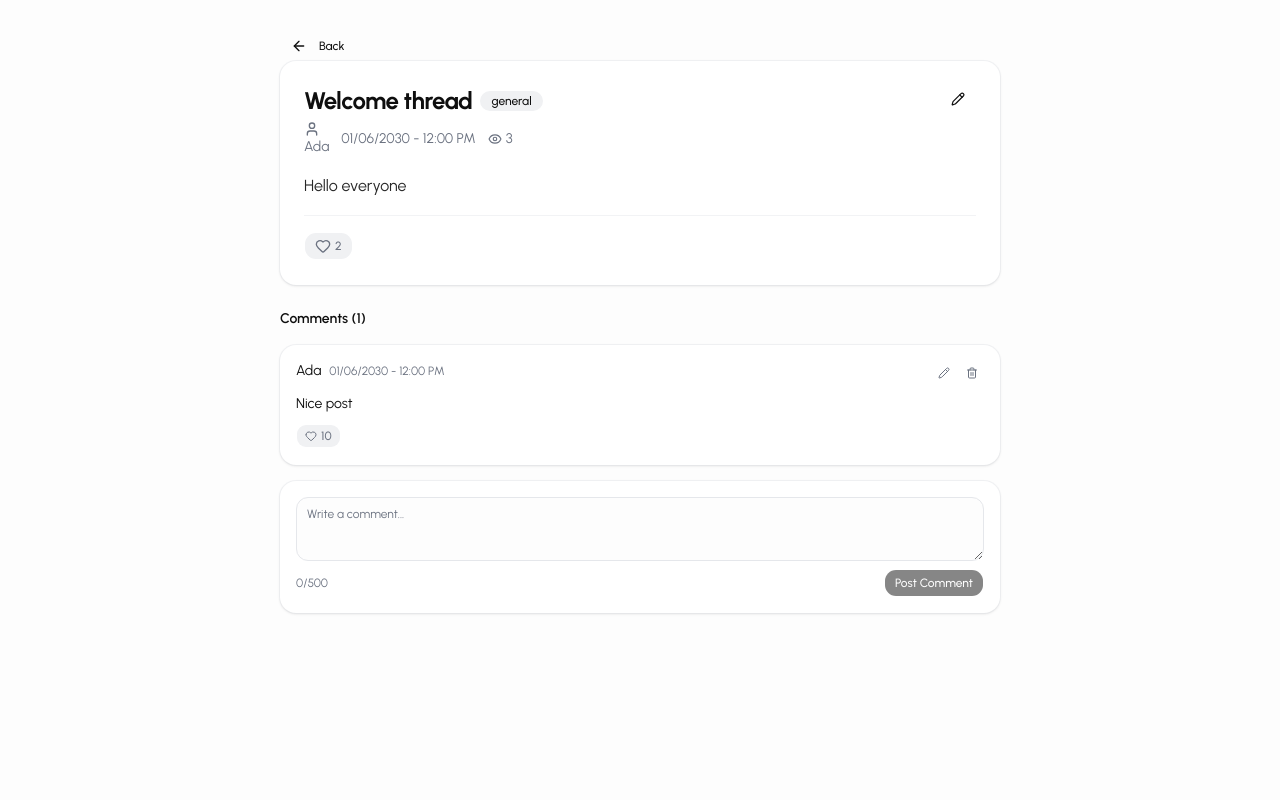
discussion detail route › edits an existing comment
Expected: the text "Nice post" is shown, [296,395,353,412]
Click the button named "Edit comment".
click(944, 373)  # box [932,361,956,385]
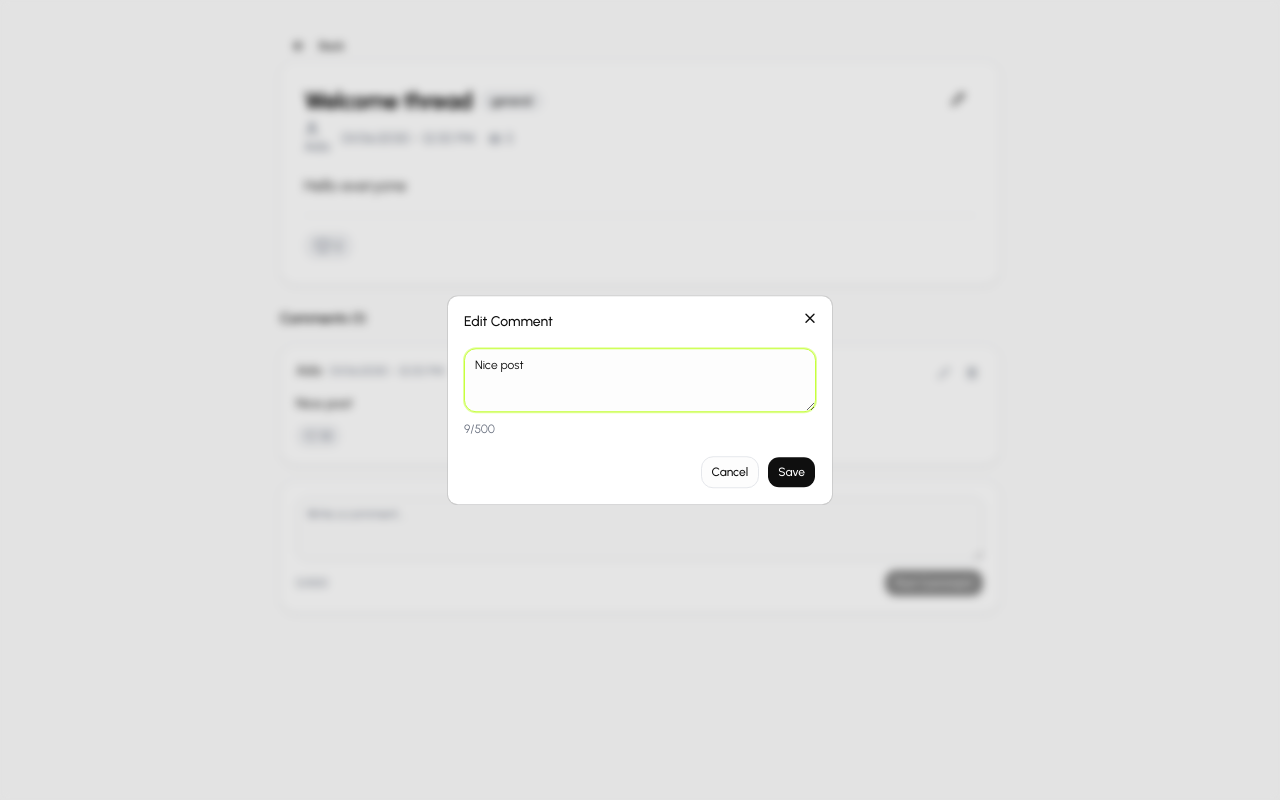
Replace the text in the text box with "Edited comment" at point(640, 380), box [464,348,816,412]
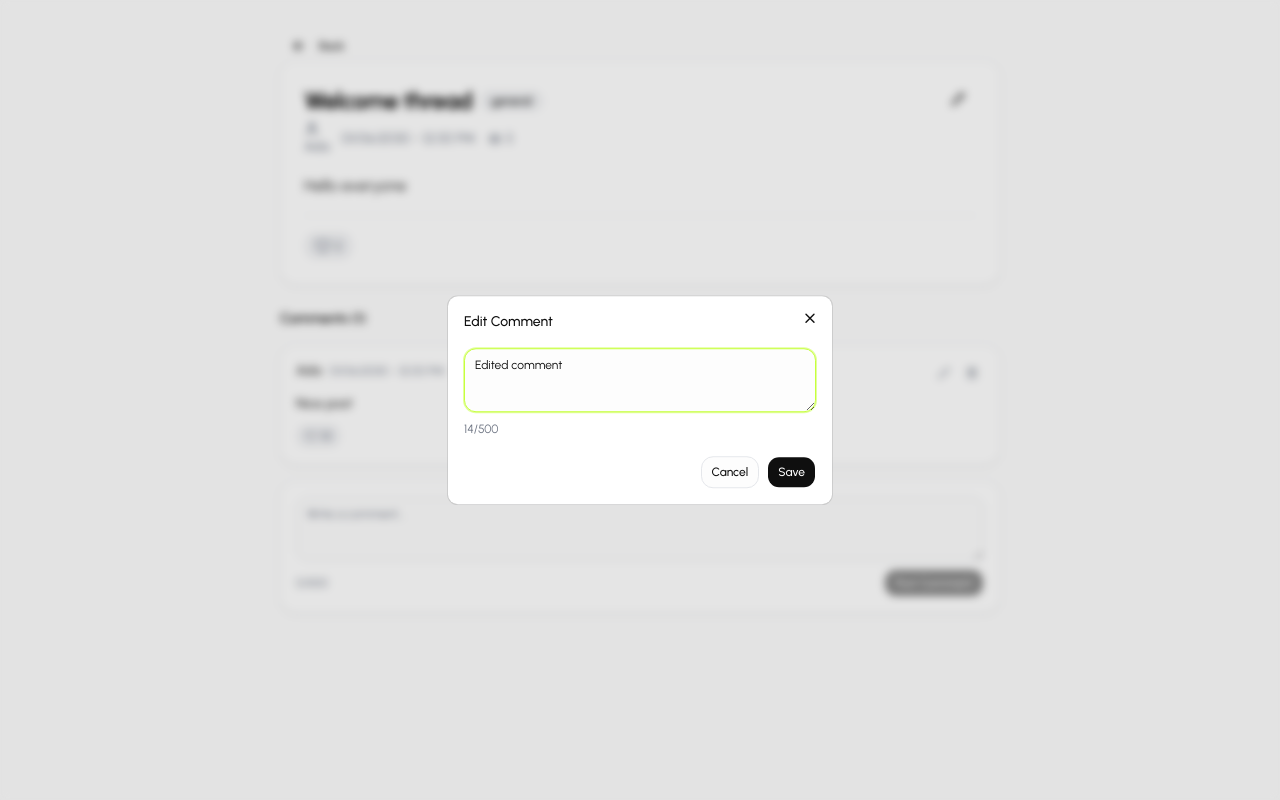
Click the button "Save".
click(792, 472)  # box [767,456,816,488]
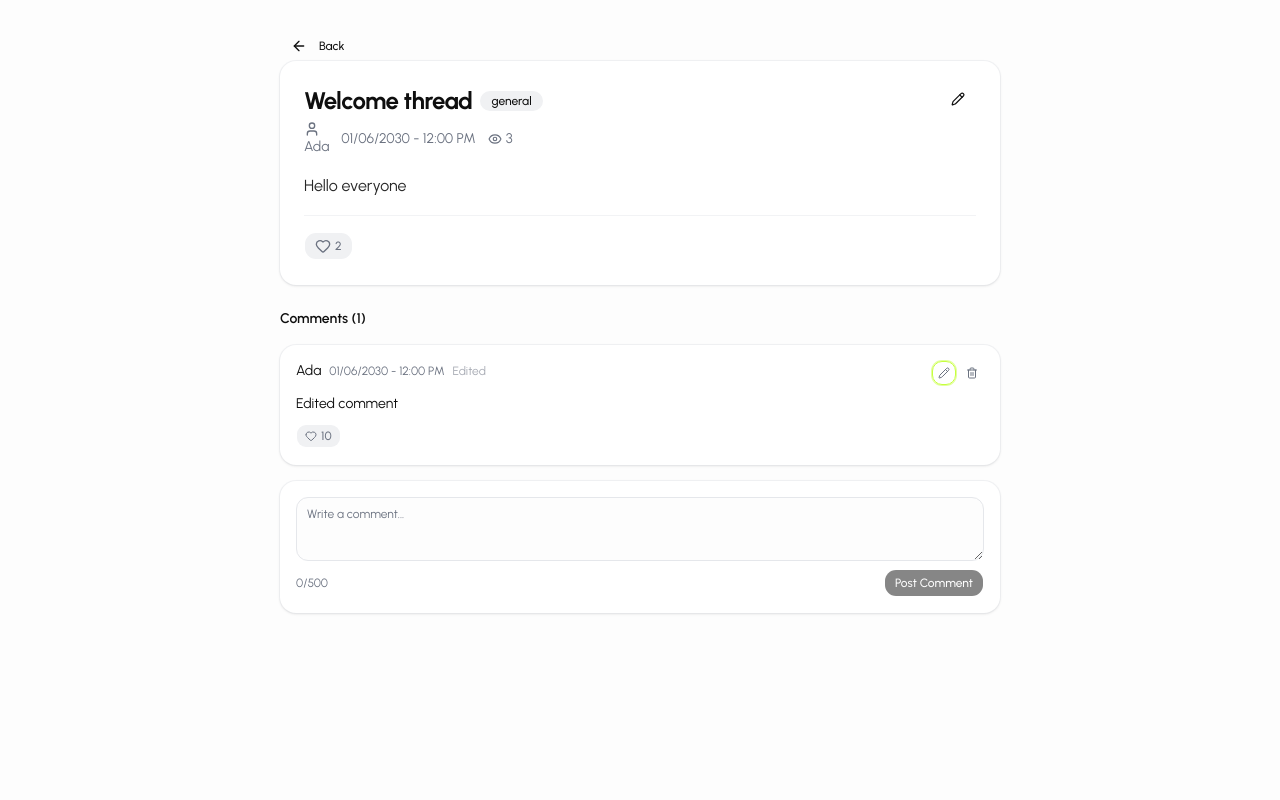
Expected: the text "Edited comment" is shown, [296,395,398,412]
